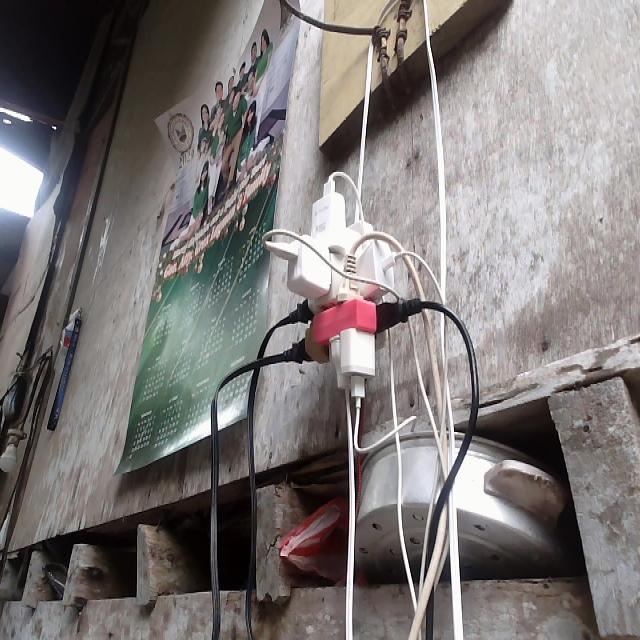-: (264, 179, 413, 396)
